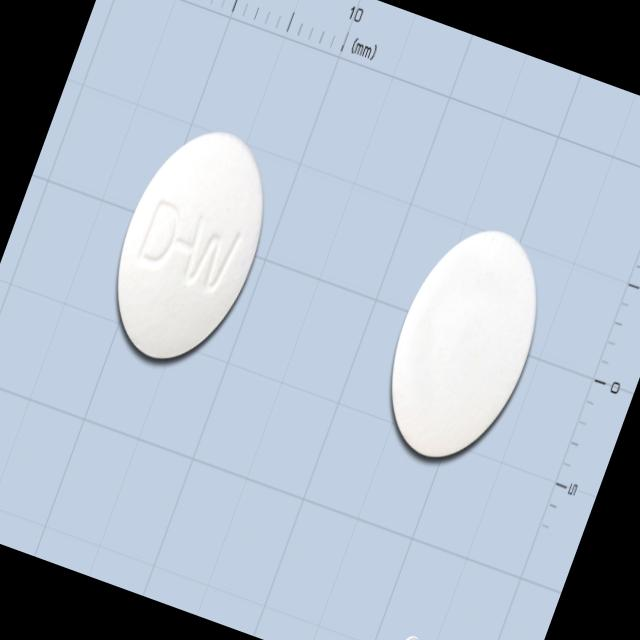Cipoxacin: (85, 106, 296, 386)
